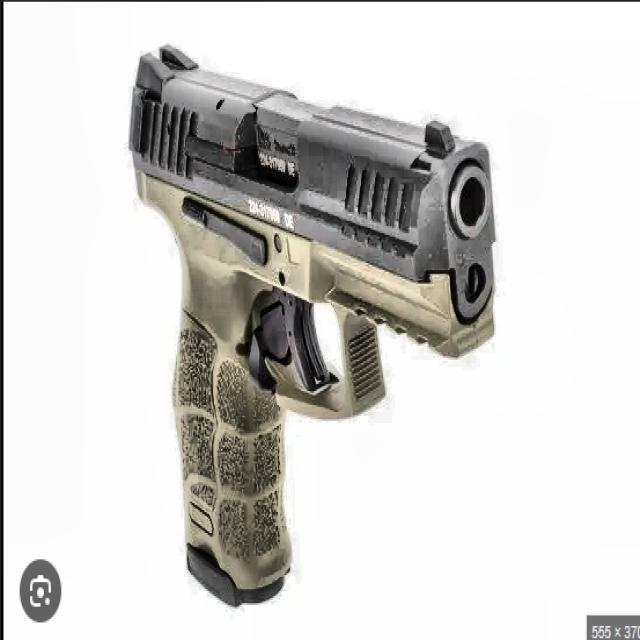HKVP9: (126, 40, 499, 607)
